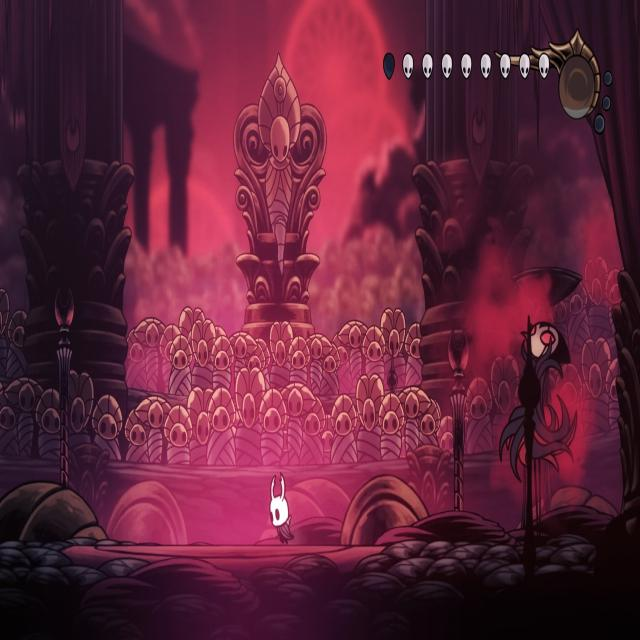Grimm: (496, 312, 583, 532)
Player: (267, 467, 295, 548)
